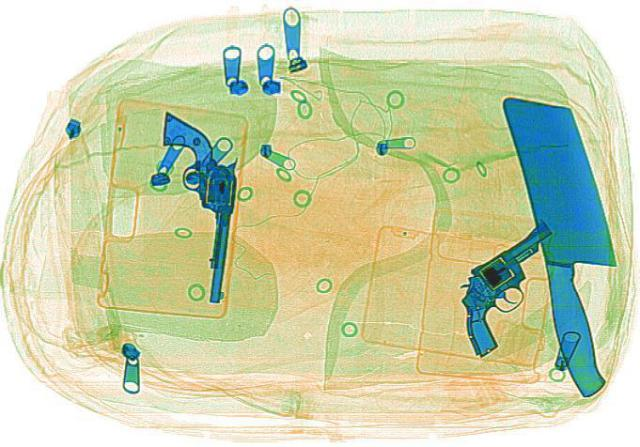Gun: (403, 221, 621, 356), (140, 108, 244, 301)
Knife: (500, 90, 638, 395)
